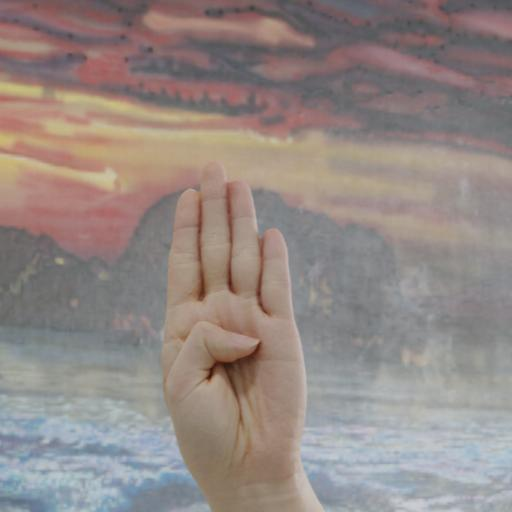B: (165, 159, 311, 487)
